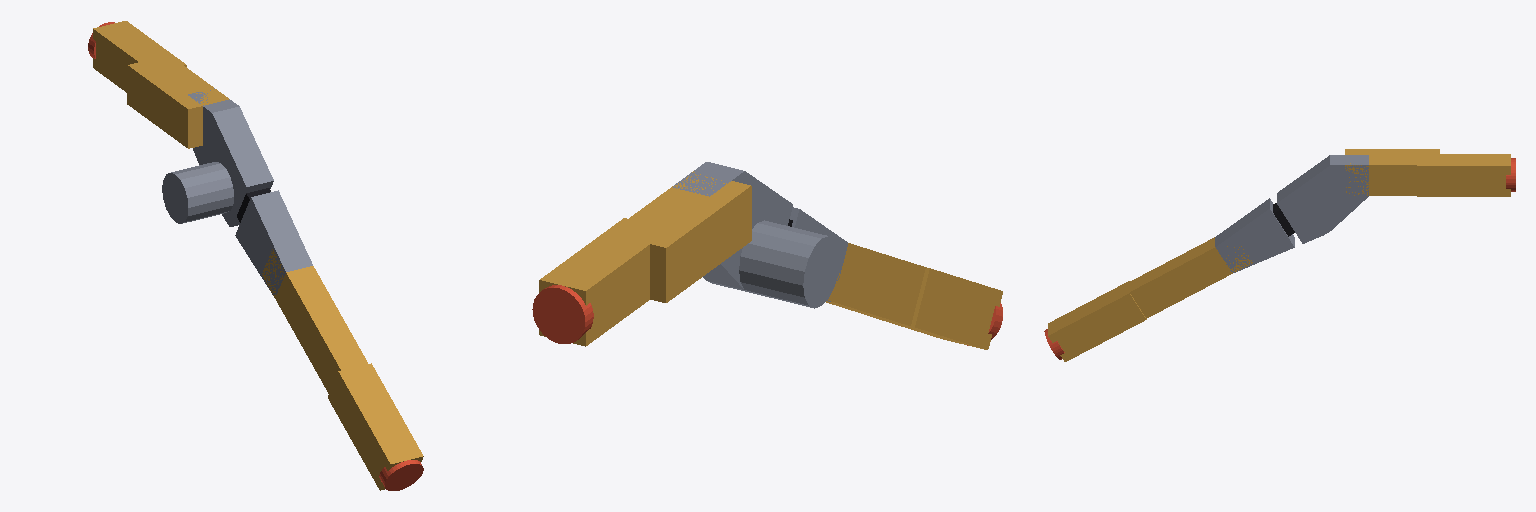
robot.urdf — g0066_c02:
<robot name="g0066_c02">
  <link name="palm">
    <visual name="palm_palm1">
      <origin xyz="0 0 0" rpy="0 0 0" />
      <geometry>
        <mesh filename="palm_palm1.obj" />
      </geometry>
      <material name="palm_palm1_mat">
        <color rgba="0.55 0.57 0.62 1" />
      </material>
    </visual>
    <collision>
      <origin xyz="0 0 0" rpy="0 0 0" />
      <geometry>
        <mesh filename="palm_palm1.obj" />
      </geometry>
    </collision>
    <visual name="palm_mount2">
      <origin xyz="0 0 0" rpy="0 0 0" />
      <geometry>
        <mesh filename="palm_mount2.obj" />
      </geometry>
      <material name="palm_mount2_mat">
        <color rgba="0.55 0.57 0.62 1" />
      </material>
    </visual>
    <collision>
      <origin xyz="0 0 0" rpy="0 0 0" />
      <geometry>
        <mesh filename="palm_mount2.obj" />
      </geometry>
    </collision>
    <visual name="palm_hinge3">
      <origin xyz="0 -0.0244855716 -0.00258974596" rpy="1.57079633 -1.04719755 -1.57079633" />
      <geometry>
        <box size="0.029 0.034 0.02" />
      </geometry>
      <material name="palm_hinge3_mat">
        <color rgba="0.15 0.15 0.17 1" />
      </material>
    </visual>
    <collision>
      <origin xyz="0 -0.0244855716 -0.00258974596" rpy="1.57079633 -1.04719755 -1.57079633" />
      <geometry>
        <box size="0.029 0.034 0.02" />
      </geometry>
    </collision>
    <visual name="palm_motor4">
      <origin xyz="0 0.0325 0.04" rpy="-3.14159265 1.57079633 0" />
      <geometry>
        <box size="0.029 0.034 0.02" />
      </geometry>
      <material name="palm_motor4_mat">
        <color rgba="0.15 0.15 0.17 1" />
      </material>
    </visual>
    <collision>
      <origin xyz="0 0.0325 0.04" rpy="-3.14159265 1.57079633 0" />
      <geometry>
        <box size="0.029 0.034 0.02" />
      </geometry>
    </collision>
    <inertial>
      <origin xyz="0 0.00931256397 0.0187164671" rpy="-1.57079633 0.710700076 -1.57079633" />
      <mass value="0.193460135" />
      <inertia ixx="5.11730829e-05" ixy="0" ixz="0" iyy="0.00013555819" iyz="0" izz="0.0001681591" />
    </inertial>
  </link>
  <link name="palm0">
    <visual name="palm0_palm1">
      <origin xyz="0 0 0" rpy="0 0 0" />
      <geometry>
        <mesh filename="palm0_palm1.obj" />
      </geometry>
      <material name="palm0_palm1_mat">
        <color rgba="0.55 0.57 0.62 1" />
      </material>
    </visual>
    <collision>
      <origin xyz="0 0 0" rpy="0 0 0" />
      <geometry>
        <mesh filename="palm0_palm1.obj" />
      </geometry>
    </collision>
    <visual name="palm0_motor2">
      <origin xyz="0 -0.0425240474 -0.029910254" rpy="1.57079633 -1.04719755 -1.57079633" />
      <geometry>
        <box size="0.029 0.034 0.02" />
      </geometry>
      <material name="palm0_motor2_mat">
        <color rgba="0.15 0.15 0.17 1" />
      </material>
    </visual>
    <collision>
      <origin xyz="0 -0.0425240474 -0.029910254" rpy="1.57079633 -1.04719755 -1.57079633" />
      <geometry>
        <box size="0.029 0.034 0.02" />
      </geometry>
    </collision>
    <inertial>
      <origin xyz="0 -0.0288554921 -0.0208775029" rpy="1.57079633 -0.569638488 1.57079633" />
      <mass value="0.113787661" />
      <inertia ixx="2.17503049e-05" ixy="0" ixz="0" iyy="4.69369759e-05" iyz="0" izz="5.77636654e-05" />
    </inertial>
  </link>
  <link name="f0_link0">
    <visual name="f0_link0_link1">
      <origin xyz="0.02375 0 -1.38777878e-17" rpy="0 -3.98552134e-18 0" />
      <geometry>
        <box size="0.0715 0.024 0.033" />
      </geometry>
      <material name="f0_link0_link1_mat">
        <color rgba="0.80 0.62 0.30 1" />
      </material>
    </visual>
    <collision>
      <origin xyz="0.02375 0 -1.38777878e-17" rpy="0 -3.98552134e-18 0" />
      <geometry>
        <box size="0.0715 0.024 0.033" />
      </geometry>
    </collision>
    <inertial>
      <origin xyz="0.02375 0 0" rpy="0 0 0" />
      <mass value="0.099099" />
      <inertia ixx="1.37499863e-05" ixy="0" ixz="0" iyy="5.12114728e-05" iyz="0" izz="4.69749906e-05" />
    </inertial>
  </link>
  <link name="f0_link1">
    <visual name="f0_link1_link1">
      <origin xyz="0.03375 0 -7.80625564e-18" rpy="0 -3.98552134e-18 0" />
      <geometry>
        <box size="0.0915 0.024 0.033" />
      </geometry>
      <material name="f0_link1_link1_mat">
        <color rgba="0.80 0.62 0.30 1" />
      </material>
    </visual>
    <collision>
      <origin xyz="0.03375 0 -7.80625564e-18" rpy="0 -3.98552134e-18 0" />
      <geometry>
        <box size="0.0915 0.024 0.033" />
      </geometry>
    </collision>
    <inertial>
      <origin xyz="0.03375 0 0" rpy="0 0 0" />
      <mass value="0.126819" />
      <inertia ixx="1.75961363e-05" ixy="0" ixz="0" iyy="9.99888553e-05" iyz="0" izz="9.45673431e-05" />
    </inertial>
  </link>
  <link name="f0_link2">
    <visual name="f0_link2_link1">
      <origin xyz="0.03375 0 -1.82145965e-17" rpy="0 -3.98552134e-18 0" />
      <geometry>
        <box size="0.0915 0.029 0.033" />
      </geometry>
      <material name="f0_link2_link1_mat">
        <color rgba="0.80 0.62 0.30 1" />
      </material>
    </visual>
    <collision>
      <origin xyz="0.03375 0 -1.82145965e-17" rpy="0 -3.98552134e-18 0" />
      <geometry>
        <box size="0.0915 0.029 0.033" />
      </geometry>
    </collision>
    <inertial>
      <origin xyz="0.03375 0 0" rpy="0 0 0" />
      <mass value="0.153239625" />
      <inertia ixx="2.46460397e-05" ixy="0" ixz="0" iyy="0.000120819867" iyz="0" izz="0.000117652915" />
    </inertial>
  </link>
  <link name="f0_link3">
    <visual name="f0_link3_link1">
      <origin xyz="0.009 0 -1.77809156e-17" rpy="-1.57079633 -0 -1.57079633" />
      <geometry>
        <cylinder radius="0.0165" length="0.009" />
      </geometry>
      <material name="f0_link3_link1_mat">
        <color rgba="0.85 0.35 0.25 1" />
      </material>
    </visual>
    <collision>
      <origin xyz="0.009 0 -1.77809156e-17" rpy="-1.57079633 -0 -1.57079633" />
      <geometry>
        <cylinder radius="0.0165" length="0.009" />
      </geometry>
    </collision>
    <inertial>
      <origin xyz="0.009 0 0" rpy="0 0 0" />
      <mass value="0.046399949" />
      <inertia ixx="5.41970115e-06" ixy="0" ixz="0" iyy="7.09430898e-06" iyz="0" izz="7.09430898e-06" />
    </inertial>
  </link>
  <link name="f1_link0">
    <visual name="f1_link0_link1">
      <origin xyz="0.014 -0.00625 0" rpy="0 -0 0" />
      <geometry>
        <box size="0.052 0.0365 0.033" />
      </geometry>
      <material name="f1_link0_link1_mat">
        <color rgba="0.80 0.62 0.30 1" />
      </material>
    </visual>
    <collision>
      <origin xyz="0.014 -0.00625 0" rpy="0 -0 0" />
      <geometry>
        <box size="0.052 0.0365 0.033" />
      </geometry>
    </collision>
    <inertial>
      <origin xyz="0.014 -0.00625 0" rpy="0 0 0" />
      <mass value="0.1096095" />
      <inertia ixx="2.21160002e-05" ixy="0" ixz="0" iyy="3.46457361e-05" iyz="0" izz="3.6867612e-05" />
    </inertial>
  </link>
  <link name="f1_link1">
    <visual name="f1_link1_link1">
      <origin xyz="0.019 -0.00625 0" rpy="0 -0 0" />
      <geometry>
        <box size="0.062 0.0365 0.033" />
      </geometry>
      <material name="f1_link1_link1_mat">
        <color rgba="0.80 0.62 0.30 1" />
      </material>
    </visual>
    <collision>
      <origin xyz="0.019 -0.00625 0" rpy="0 -0 0" />
      <geometry>
        <box size="0.062 0.0365 0.033" />
      </geometry>
    </collision>
    <inertial>
      <origin xyz="0.019 -0.00625 0" rpy="0 0 0" />
      <mass value="0.13068825" />
      <inertia ixx="2.63690771e-05" ixy="0" ixz="0" iyy="5.37237614e-05" iyz="0" izz="5.63729212e-05" />
    </inertial>
  </link>
  <link name="f1_link2">
    <visual name="f1_link2_link1">
      <origin xyz="0.03375 0 0" rpy="0 -0 0" />
      <geometry>
        <box size="0.0915 0.029 0.033" />
      </geometry>
      <material name="f1_link2_link1_mat">
        <color rgba="0.80 0.62 0.30 1" />
      </material>
    </visual>
    <collision>
      <origin xyz="0.03375 0 0" rpy="0 -0 0" />
      <geometry>
        <box size="0.0915 0.029 0.033" />
      </geometry>
    </collision>
    <inertial>
      <origin xyz="0.03375 0 0" rpy="0 0 0" />
      <mass value="0.153239625" />
      <inertia ixx="2.46460397e-05" ixy="0" ixz="0" iyy="0.000120819867" iyz="0" izz="0.000117652915" />
    </inertial>
  </link>
  <link name="f1_link3">
    <visual name="f1_link3_link1">
      <origin xyz="0.009 0 0" rpy="-1.57079633 -0 -1.57079633" />
      <geometry>
        <cylinder radius="0.0165" length="0.009" />
      </geometry>
      <material name="f1_link3_link1_mat">
        <color rgba="0.85 0.35 0.25 1" />
      </material>
    </visual>
    <collision>
      <origin xyz="0.009 0 0" rpy="-1.57079633 -0 -1.57079633" />
      <geometry>
        <cylinder radius="0.0165" length="0.009" />
      </geometry>
    </collision>
    <inertial>
      <origin xyz="0.009 0 0" rpy="0 0 0" />
      <mass value="0.046399949" />
      <inertia ixx="5.41970115e-06" ixy="0" ixz="0" iyy="7.09430898e-06" iyz="0" izz="7.09430898e-06" />
    </inertial>
  </link>
  <joint name="palm0_joint" type="revolute">
    <parent link="palm" />
    <child link="palm0" />
    <origin xyz="0 -0.0309807621 -0.00633974596" rpy="0 0 0" />
    <axis xyz="0 -0.5 0.866025404" />
    <limit effort="0.5" lower="-0.523598776" upper="0.523598776" velocity="5" />
    <dynamics damping="0.0775033" friction="0" />
  </joint>
  <joint name="f0_j0" type="revolute">
    <parent link="palm0" />
    <child link="f0_link0" />
    <origin xyz="0 -0.0490192379 -0.033660254" rpy="0 0.523598776 -1.57079633" />
    <axis xyz="0 0 1" />
    <limit effort="0.5" lower="-0.523598776" upper="1.57079633" velocity="5" />
    <dynamics damping="0.0775033" friction="0" />
  </joint>
  <joint name="f0_j1" type="revolute">
    <parent link="f0_link0" />
    <child link="f0_link1" />
    <origin xyz="0.05 0 0" rpy="0 0 0" />
    <axis xyz="0 0 1" />
    <limit effort="0.5" lower="-0.523598776" upper="1.57079633" velocity="5" />
    <dynamics damping="0.0775033" friction="0" />
  </joint>
  <joint name="f0_j2" type="revolute">
    <parent link="f0_link1" />
    <child link="f0_link2" />
    <origin xyz="0.07 0 0" rpy="0 0 0" />
    <axis xyz="0 0 1" />
    <limit effort="0.5" lower="-0.523598776" upper="1.57079633" velocity="5" />
    <dynamics damping="0.0775033" friction="0" />
  </joint>
  <joint name="f0_j3" type="revolute">
    <parent link="f0_link2" />
    <child link="f0_link3" />
    <origin xyz="0.07 0 0" rpy="0 0 0" />
    <axis xyz="0 1 6.123234e-17" />
    <limit effort="0.5" lower="-0.523598776" upper="0.523598776" velocity="5" />
    <dynamics damping="0.0775033" friction="0" />
  </joint>
  <joint name="f1_j0" type="revolute">
    <parent link="palm" />
    <child link="f1_link0" />
    <origin xyz="0 0.04 0.04" rpy="-3.14159265 -6.123234e-17 1.57079633" />
    <axis xyz="0 0 1" />
    <limit effort="0.5" lower="-0.523598776" upper="1.57079633" velocity="5" />
    <dynamics damping="0.0775033" friction="0" />
  </joint>
  <joint name="f1_j1" type="revolute">
    <parent link="f1_link0" />
    <child link="f1_link1" />
    <origin xyz="0.03 0 0" rpy="0 0 0" />
    <axis xyz="0 0 1" />
    <limit effort="0.5" lower="-0.523598776" upper="1.57079633" velocity="5" />
    <dynamics damping="0.0775033" friction="0" />
  </joint>
  <joint name="f1_j2" type="revolute">
    <parent link="f1_link1" />
    <child link="f1_link2" />
    <origin xyz="0.04 0 0" rpy="0 0 0" />
    <axis xyz="0 0 1" />
    <limit effort="0.5" lower="-0.523598776" upper="1.57079633" velocity="5" />
    <dynamics damping="0.0775033" friction="0" />
  </joint>
  <joint name="f1_j3" type="revolute">
    <parent link="f1_link2" />
    <child link="f1_link3" />
    <origin xyz="0.07 0 0" rpy="0 0 0" />
    <axis xyz="0 1 6.123234e-17" />
    <limit effort="0.5" lower="-0.523598776" upper="0.523598776" velocity="5" />
    <dynamics damping="0.0775033" friction="0" />
  </joint>
</robot>

--- Facts derived from the render (not from the file) ---
Views: 3 orthographic renders of the robot side by side, from view 1: azimuth 30°, elevation 25°; view 2: azimuth 150°, elevation 25°; view 3: azimuth 270°, elevation 25°.
Robot: g0066_c02 — 10 links, 9 joints (9 revolute); root link palm; default pose: every joint at zero.
Links seen in each view (by area): view 1: palm, f0_link2, palm0, f0_link1, f1_link1, f1_link2, f0_link0, f1_link0, f0_link3; view 2: palm, f1_link2, f1_link1, f0_link2, f1_link0, f1_link3, f0_link1, f0_link0, palm0; view 3: palm, f0_link2, f1_link2, palm0, f0_link1, f1_link0, f0_link0, f1_link1.
Boxes of the visible links, <box> form: palm: <box>162,88,273,226</box>; f0_link2: <box>328,363,423,490</box>; palm0: <box>235,190,312,294</box>; f0_link1: <box>303,293,380,393</box>; f1_link1: <box>127,56,209,133</box>; f1_link2: <box>93,21,186,92</box>; f0_link0: <box>262,249,335,346</box>; f1_link0: <box>156,85,228,148</box>; f0_link3: <box>379,460,423,490</box>; palm: <box>673,162,839,308</box>; f1_link2: <box>539,218,664,346</box>; f1_link1: <box>609,192,723,302</box>; f0_link2: <box>870,267,1002,349</box>; f1_link0: <box>645,171,751,275</box>; f1_link3: <box>532,285,593,343</box>; f0_link1: <box>826,255,925,325</box>; f0_link0: <box>826,243,886,313</box>; palm0: <box>790,207,847,301</box>; palm: <box>1273,155,1368,243</box>; f0_link2: <box>1048,281,1146,361</box>; f1_link2: <box>1417,154,1510,196</box>; palm0: <box>1215,198,1294,272</box>; f0_link1: <box>1130,249,1207,318</box>; f1_link0: <box>1345,149,1398,195</box>; f0_link0: <box>1173,237,1252,293</box>; f1_link1: <box>1376,149,1439,195</box>.
Size in the robot's own frame: 0.0685 by 0.458 by 0.2125 metres.
3 mesh visuals loaded from 3 distinct referenced files (3 OBJ).
